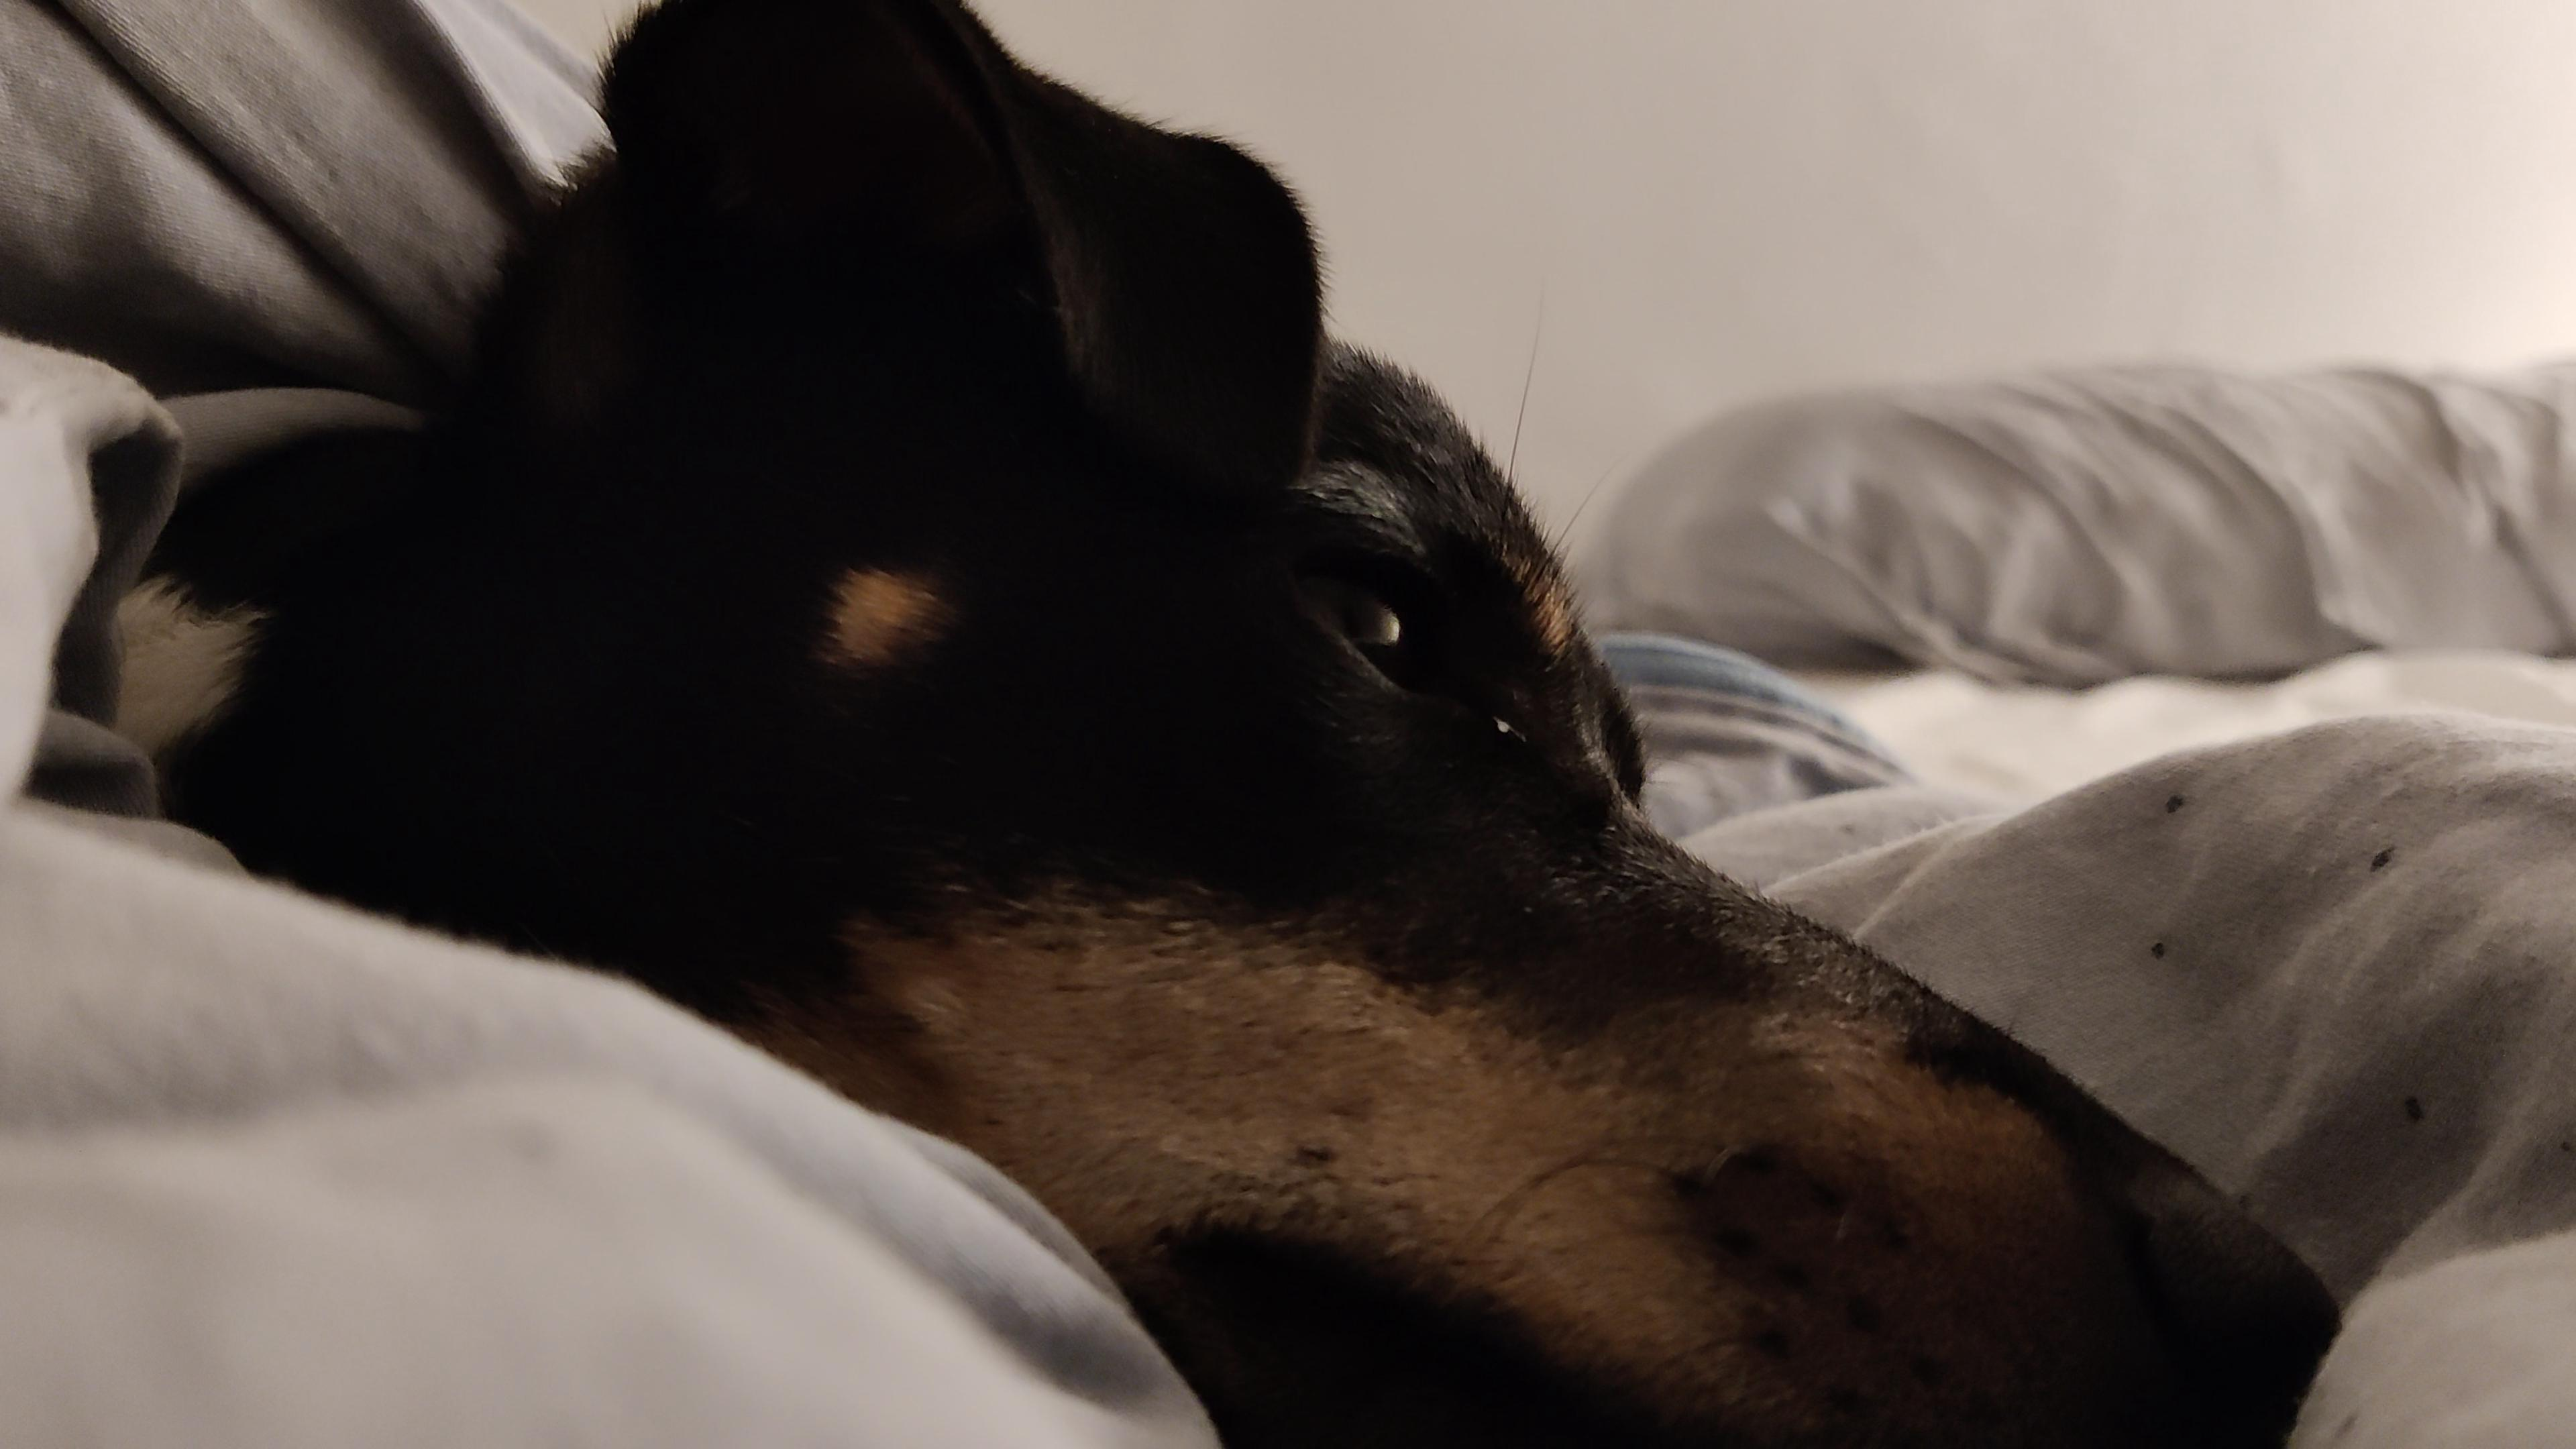Dog: (110, 0, 2346, 1449)
